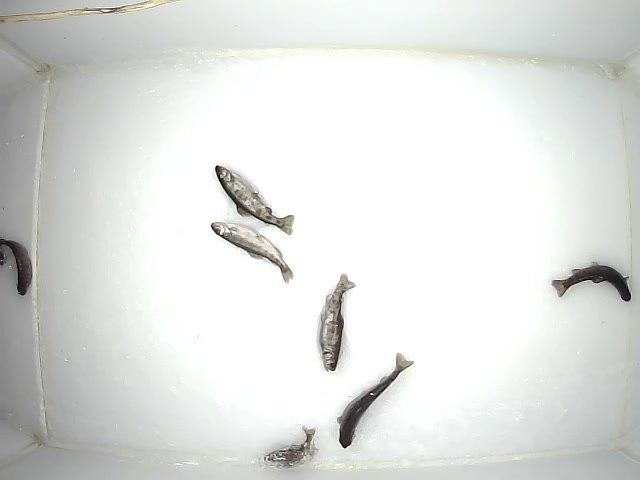fish: (335, 350, 415, 449), (214, 164, 295, 236), (209, 221, 294, 285), (316, 271, 357, 372), (550, 261, 633, 301), (262, 423, 319, 468), (1, 237, 34, 297)
